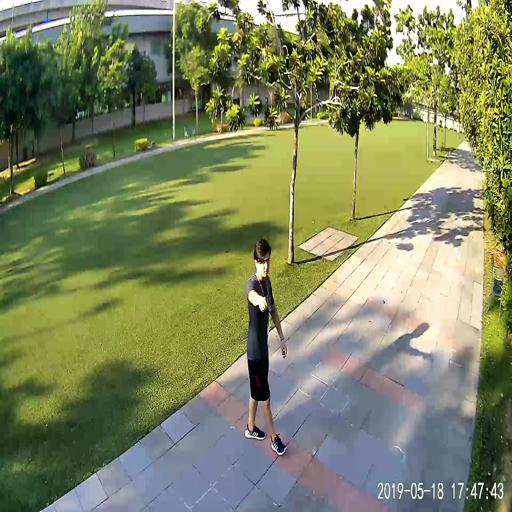Handgun: (264, 291, 272, 313)
